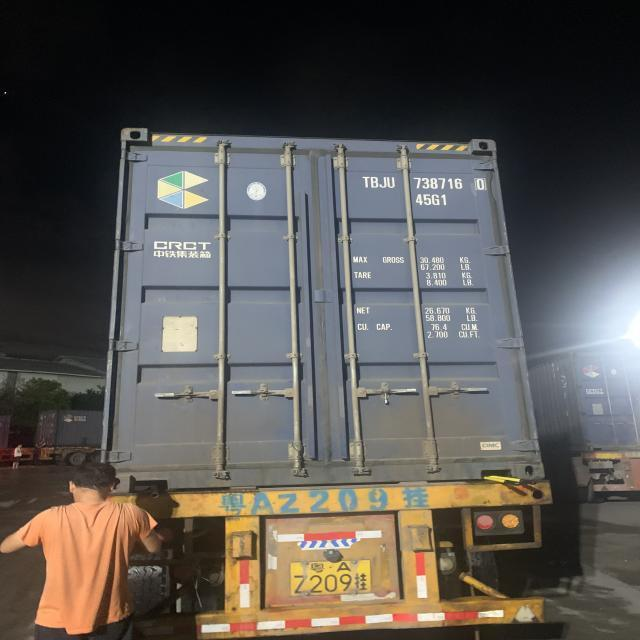ISO: (416, 192, 448, 209)
container_number: (364, 175, 492, 191)
